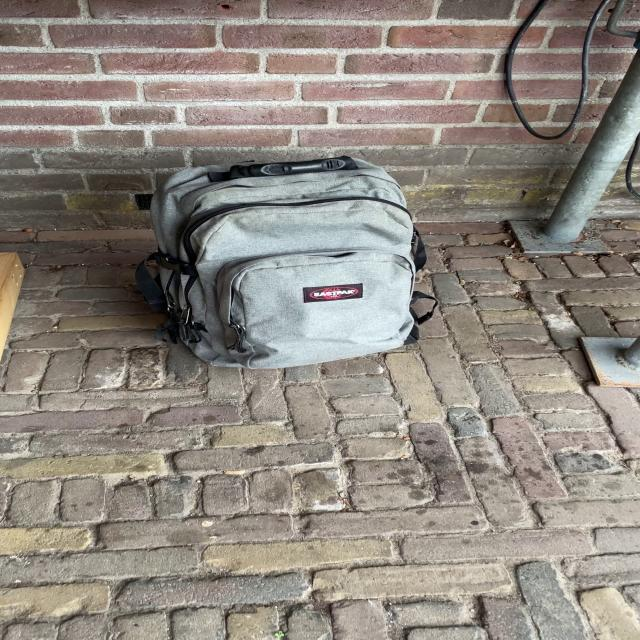backpack: (125, 146, 439, 374)
